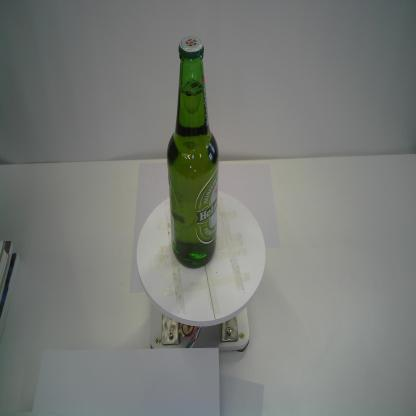Alcohol: (165, 35, 221, 272)
